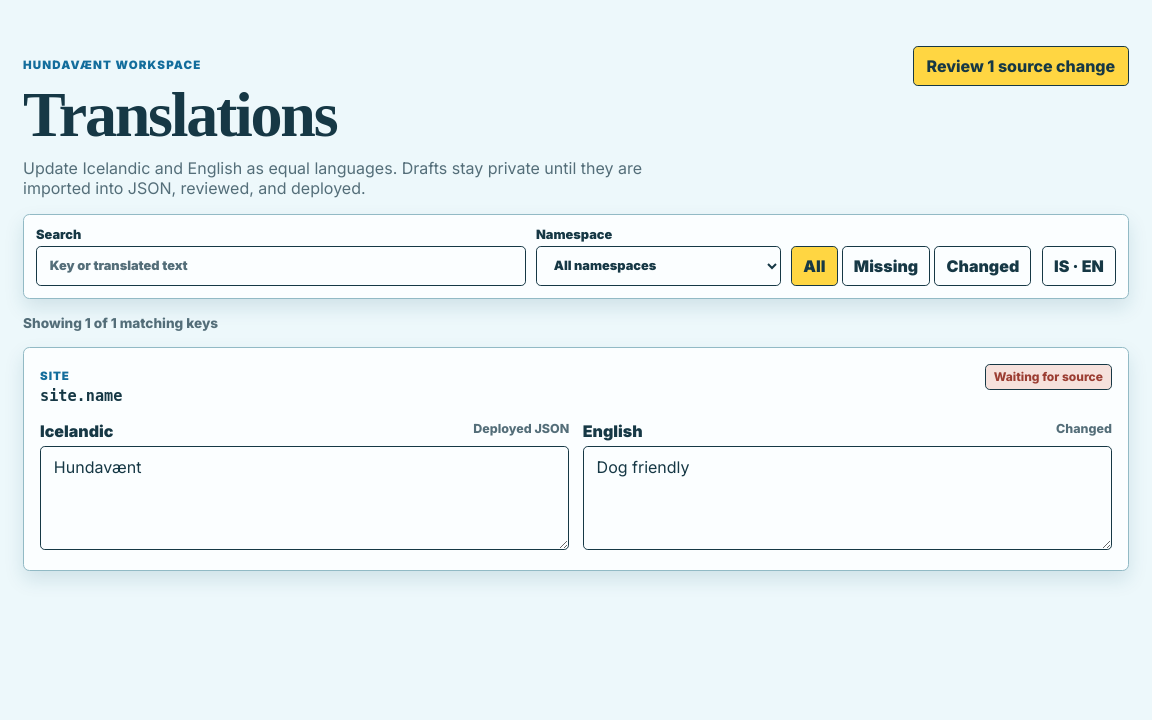
Test case: Translation workspace › serializes continued typing behind an in-flight autosave
Replace the text in the text box named "English translation for site.name" with "Dog-friendly". click: (847, 498)
box: [583, 446, 1112, 550]
Wait 700 ms
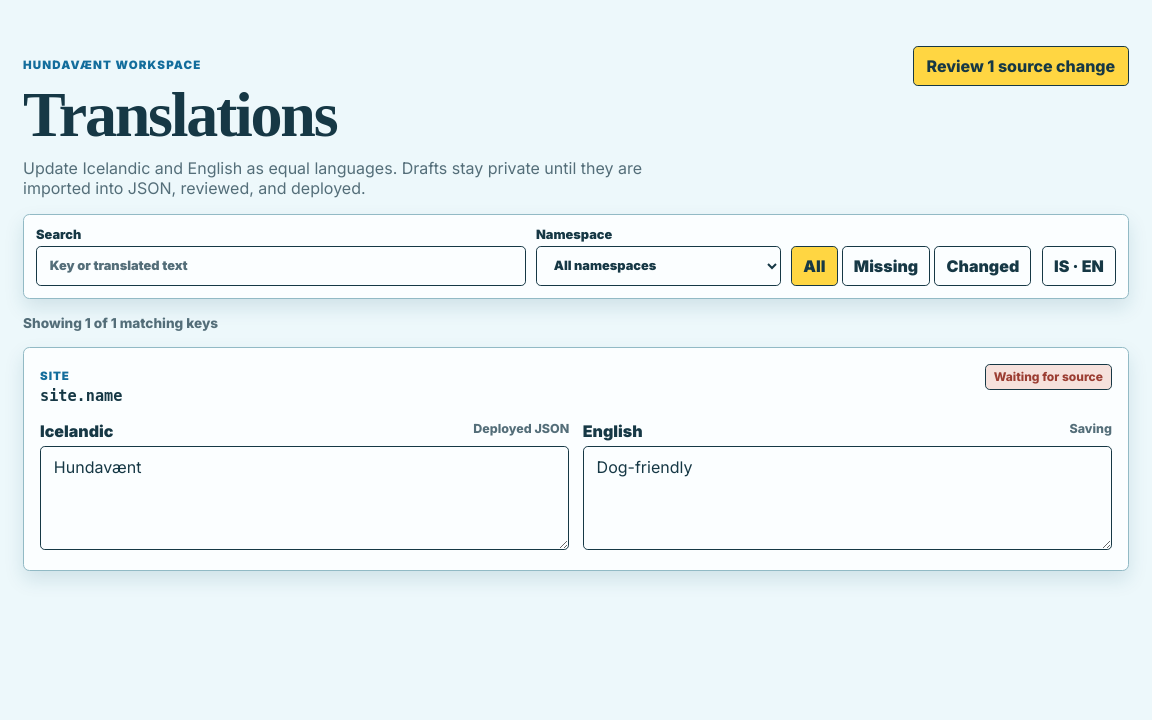
Replace the text in the text box named "English translation for site.name" with "Dog-friendly places". click: (847, 498)
box: [583, 446, 1112, 550]
Wait 1050 ms
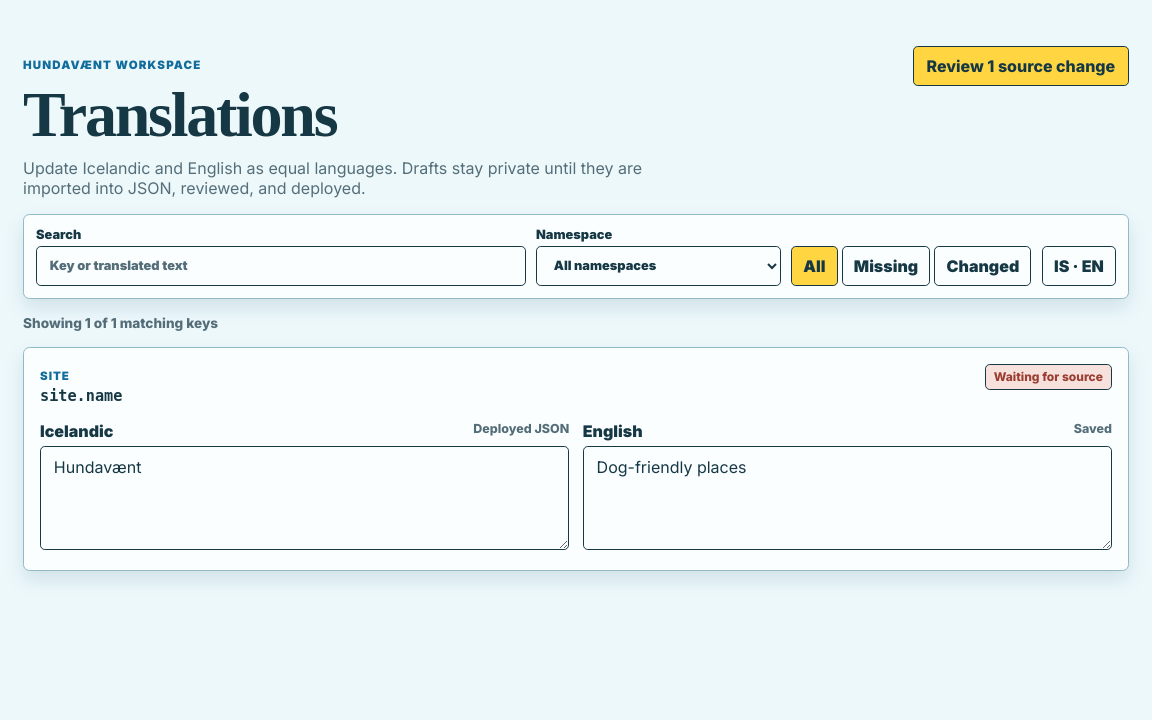
Result: the text "Saved" is shown at [1074, 421, 1112, 436]
